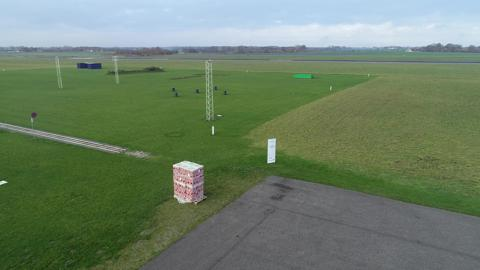RockwoolPallet: (172, 159, 205, 204)
